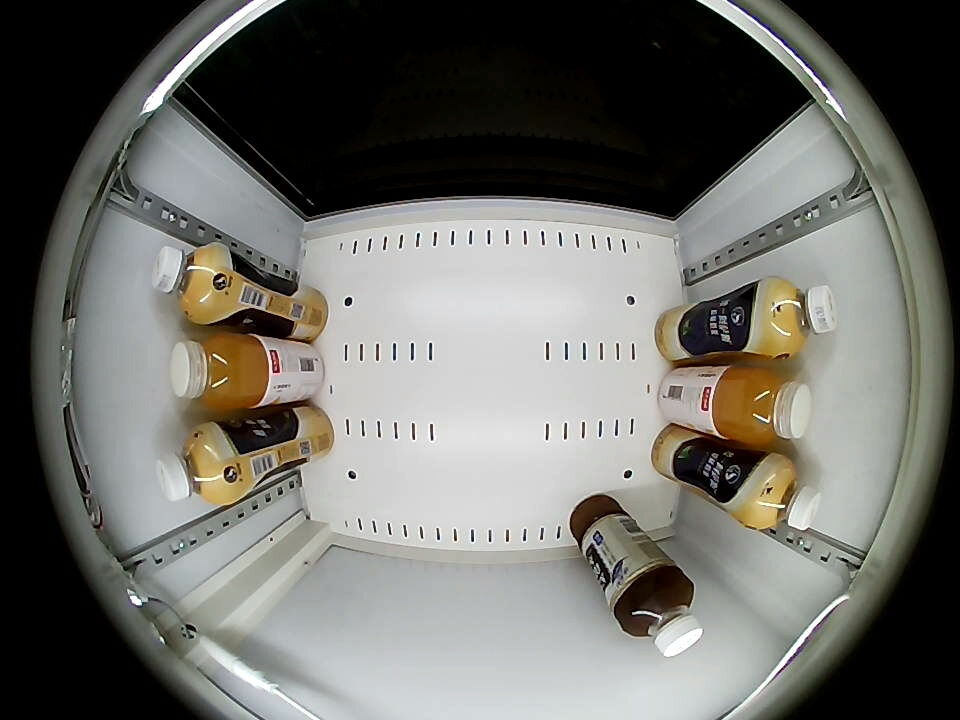asamu: (156, 425, 235, 504), (760, 279, 840, 357), (743, 456, 823, 533), (151, 243, 229, 320)
weic: (713, 365, 814, 445), (170, 332, 270, 410)
wulongcha: (616, 570, 702, 658)
